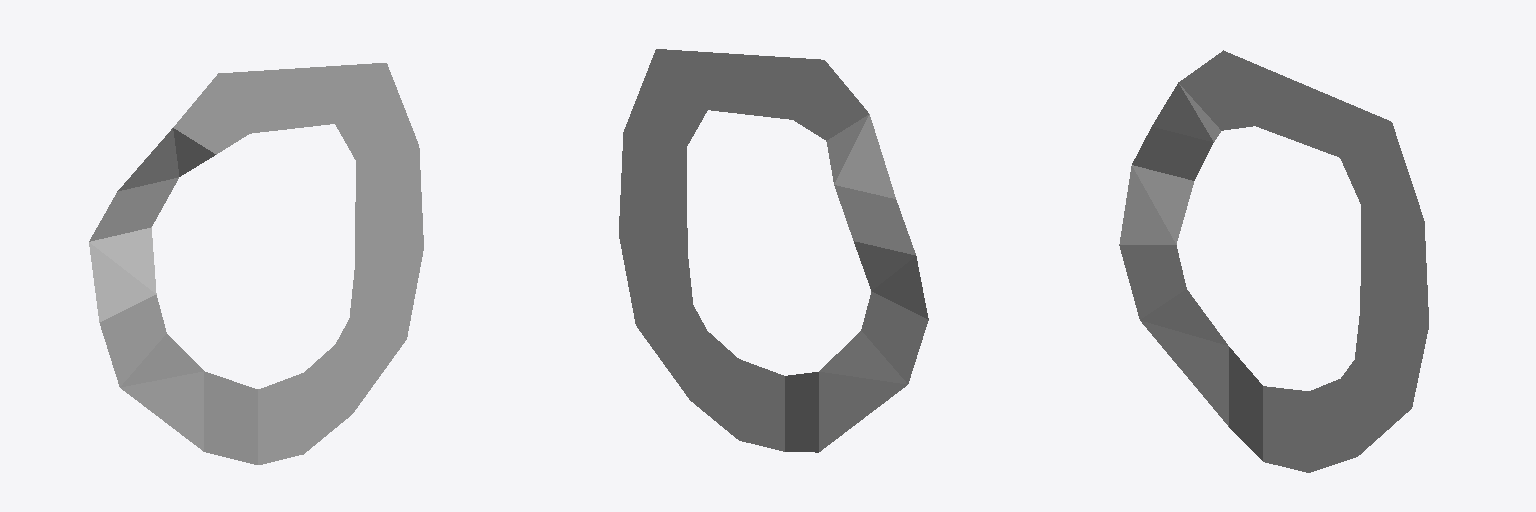
The model's file is lebeltest.obj.
3 renders of one model, left to right at view 1: azimuth 30°, elevation 25°; view 2: azimuth 150°, elevation 25°; view 3: azimuth 330°, elevation 25°, orthographic.
Parts seen in each view (by area): view 1: Plane; view 2: Plane; view 3: Plane.
Part boxes in pixels (bbox=[...]): Plane: bbox=[89, 63, 423, 464]; Plane: bbox=[619, 49, 928, 452]; Plane: bbox=[1119, 50, 1428, 472].
Bounding box in the file's own units: 4431 × 5360 × 454.